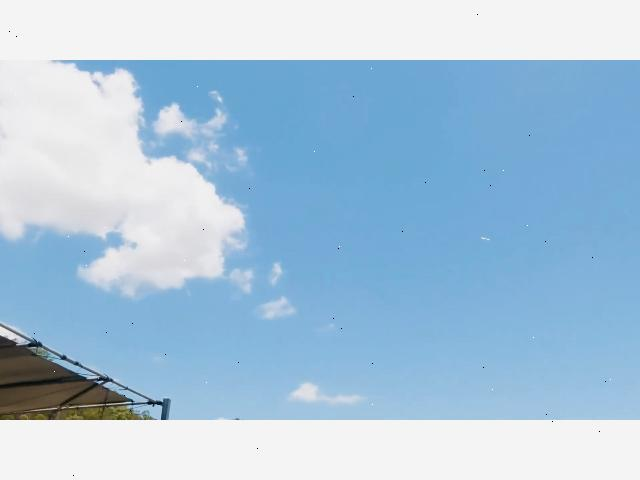Anti-Drone: (470, 230, 498, 251)
